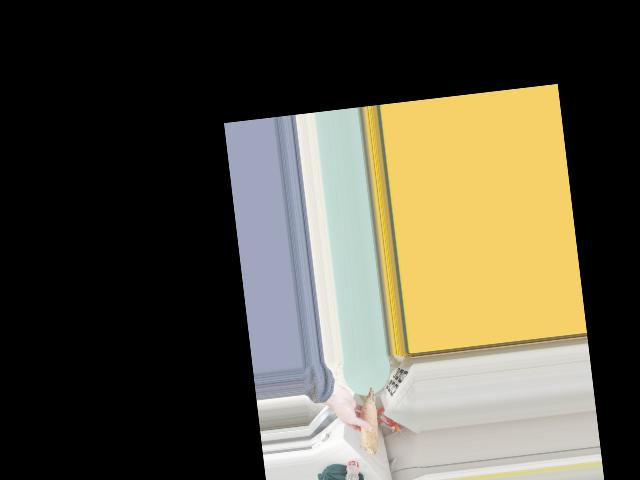sweet_potato: (350, 385, 383, 459)
